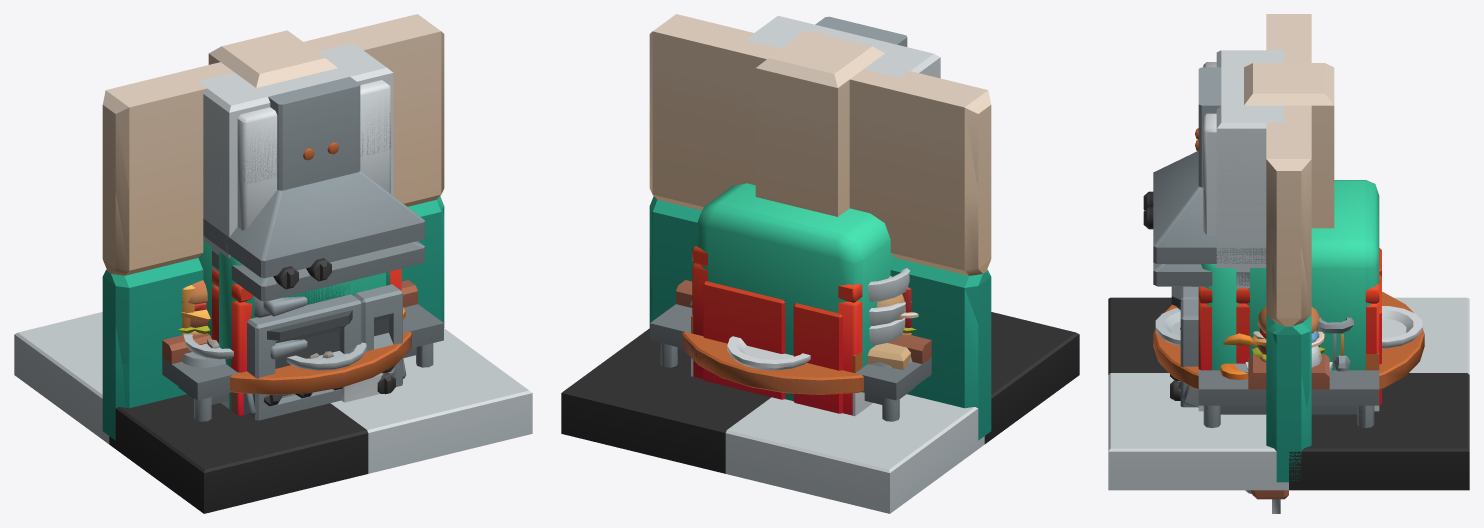
Rendered from props.glb.
3 views of the same model, side by side, from view 1: azimuth 30°, elevation 25°; view 2: azimuth 150°, elevation 25°; view 3: azimuth 270°, elevation 25° (orthographic). The views are drawn at different scales.
Visible parts, largest first — view 1: floor_kitchen, wall_orderwindow, extractorhood, wall, wall_window_open, kitchencabinet, kitchencabinet_half, oven_door, Cube.068, table_round_A_decorated, pillar_B, kitchentable_sink_large_decorated (+10 smaller); view 2: wall, floor_kitchen, Cube.106, wall_window_open, pillar_B, Cube.068, table_round_A_decorated, kitchentable_sink_large_decorated, wall_orderwindow, kitchencabinet_half, kitchentable_A_large_decorated, Cube.616 (+7 smaller); view 3: floor_kitchen, extractorhood, kitchencabinet, Cube.616, wall, wall_half, pillar_B, kitchencabinet_half, Cube.106, table_round_A_decorated, Cube.068, wall_orderwindow (+9 smaller).
Part boxes in pixels (x1,y1,x2,y2): floor_kitchen: (14, 312, 532, 513); wall_orderwindow: (102, 16, 444, 440); extractorhood: (203, 77, 424, 301); wall: (102, 14, 441, 427); wall_window_open: (102, 14, 440, 425); kitchencabinet: (203, 73, 393, 272); kitchencabinet_half: (198, 43, 393, 193); oven_door: (247, 294, 361, 420); Cube.068: (212, 268, 402, 414); table_round_A_decorated: (178, 280, 411, 393); pillar_B: (208, 30, 337, 87); kitchentable_sink_large_decorated: (162, 304, 443, 421); wall: (649, 14, 991, 440); floor_kitchen: (561, 312, 1079, 513); Cube.106: (696, 183, 895, 400); wall_window_open: (649, 14, 991, 439); pillar_B: (755, 30, 884, 216); Cube.068: (692, 246, 862, 415); table_round_A_decorated: (682, 294, 918, 393); kitchentable_sink_large_decorated: (650, 268, 931, 420); wall_orderwindow: (676, 49, 991, 363); kitchencabinet_half: (745, 15, 940, 77); kitchentable_A_large_decorated: (650, 276, 931, 421); Cube.616: (705, 183, 885, 258); floor_kitchen: (1108, 297, 1469, 490); extractorhood: (1143, 67, 1266, 286); kitchencabinet: (1203, 62, 1266, 288); Cube.616: (1247, 180, 1365, 370); wall: (1266, 14, 1311, 480); wall_half: (1266, 159, 1311, 482); pillar_B: (1244, 63, 1334, 228); kitchencabinet_half: (1195, 50, 1284, 206); Cube.106: (1250, 180, 1379, 370); table_round_A_decorated: (1153, 292, 1424, 383); Cube.068: (1170, 248, 1381, 407); wall_orderwindow: (1248, 14, 1329, 480).
Size of the model in its own units: 4 by 5.01 by 4.
1 material, 1 textured.
